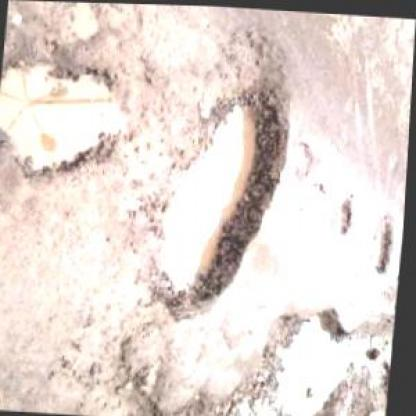pothole: (134, 21, 302, 320), (0, 55, 141, 184), (120, 352, 170, 415), (369, 211, 401, 273), (68, 2, 105, 44), (290, 138, 317, 178), (302, 180, 332, 211), (334, 196, 356, 235)
